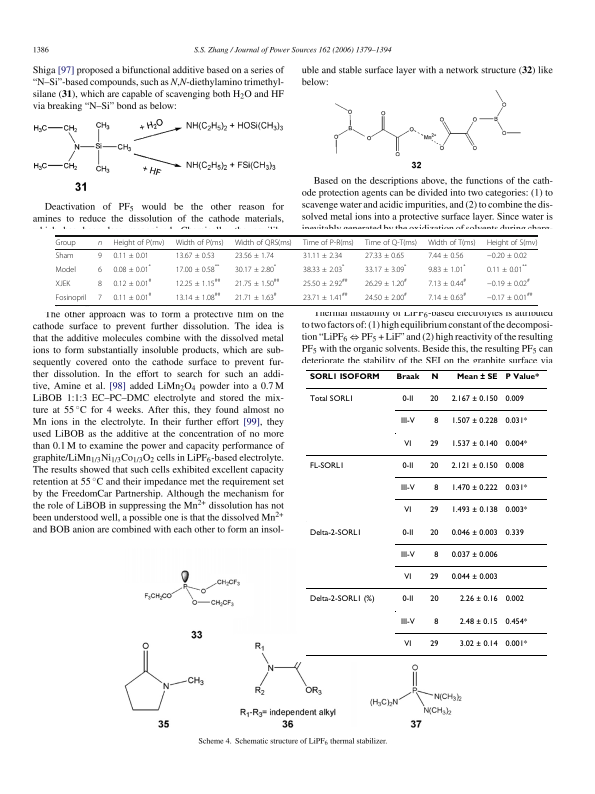borderless: (305, 368, 547, 655), (55, 234, 538, 305)
cell: (308, 595, 375, 605), (308, 528, 362, 538), (234, 238, 293, 247), (486, 291, 533, 302), (175, 277, 221, 288), (234, 277, 280, 288), (302, 277, 348, 288), (175, 291, 221, 302), (302, 291, 348, 302), (308, 373, 380, 380), (175, 263, 220, 274), (486, 277, 531, 288), (364, 238, 418, 247), (364, 277, 408, 288), (234, 291, 278, 302), (364, 291, 408, 302), (450, 417, 498, 427), (450, 439, 498, 449), (450, 461, 498, 471), (450, 483, 498, 493), (450, 506, 498, 516), (450, 528, 498, 538), (450, 550, 498, 560), (112, 238, 165, 247), (302, 238, 355, 247), (234, 263, 277, 274), (302, 263, 345, 274), (364, 263, 407, 274), (486, 238, 538, 247), (486, 263, 528, 274), (427, 238, 477, 247), (175, 238, 224, 247), (112, 263, 152, 274), (427, 263, 467, 274), (112, 277, 152, 288), (427, 277, 467, 288), (112, 291, 152, 302), (427, 291, 467, 302), (450, 395, 498, 404), (450, 573, 498, 582), (308, 395, 354, 404), (458, 595, 498, 605), (458, 617, 498, 627), (458, 639, 498, 649), (486, 251, 528, 260), (308, 461, 345, 471), (175, 251, 216, 260), (234, 251, 275, 260), (302, 251, 343, 260), (364, 251, 405, 260), (112, 251, 150, 260), (427, 251, 464, 260), (455, 373, 498, 380), (55, 293, 87, 302), (504, 373, 539, 380), (504, 417, 528, 427), (504, 439, 528, 449), (504, 483, 528, 493), (504, 506, 528, 516), (504, 617, 528, 627), (504, 639, 528, 649), (504, 461, 524, 471), (504, 528, 524, 538), (504, 595, 524, 605), (55, 265, 77, 274), (55, 238, 76, 247), (504, 395, 524, 404), (395, 373, 420, 380), (55, 251, 74, 260), (399, 417, 415, 427), (399, 483, 415, 493), (399, 550, 415, 560), (399, 617, 415, 627), (55, 279, 71, 288), (401, 461, 414, 471), (401, 528, 414, 538), (401, 595, 414, 605), (401, 395, 414, 404), (429, 439, 439, 449), (429, 461, 439, 471), (429, 506, 439, 516), (429, 528, 439, 538), (429, 595, 439, 605), (429, 639, 439, 649), (429, 395, 439, 404), (403, 439, 412, 449), (403, 506, 412, 516), (429, 573, 439, 582), (403, 639, 412, 649), (403, 573, 412, 582), (430, 373, 439, 380), (433, 417, 439, 427), (433, 483, 439, 493), (433, 550, 439, 560), (433, 617, 439, 627), (97, 251, 103, 260), (97, 265, 103, 274), (97, 279, 103, 288), (97, 293, 103, 302), (97, 240, 103, 246)
